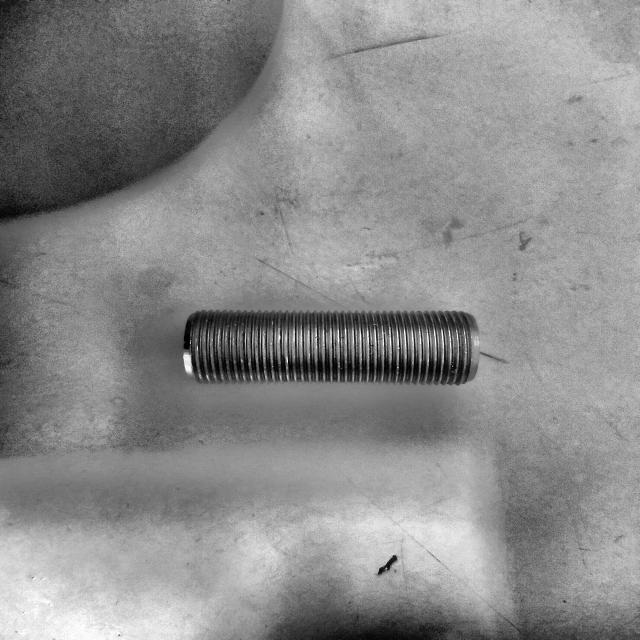Normal: (182, 307, 481, 388)
